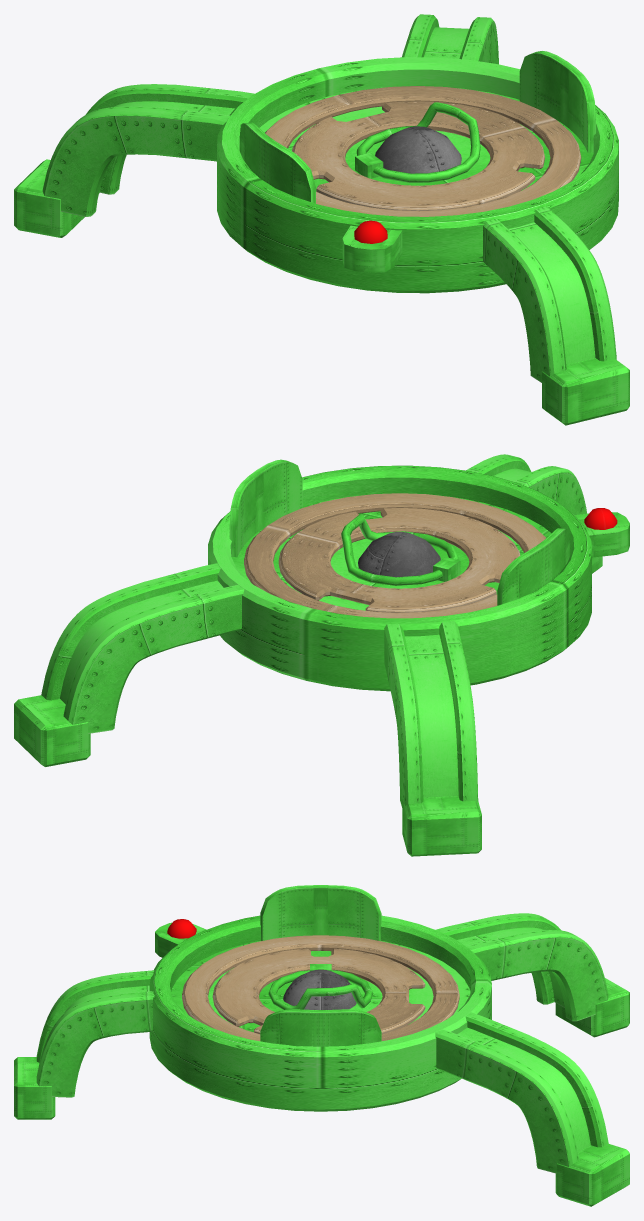
Rendered from static.glb.
3 renders of one model, top to bottom at view 1: azimuth 30°, elevation 25°; view 2: azimuth 150°, elevation 25°; view 3: azimuth 270°, elevation 25°, orthographic. The views are drawn at different scales.
Parts seen in each view (by area): view 1: Tube, Boole_2, Sweep_2, Sweep_3, Sweep_6, Cube_5, Cube_3, Sweep_1_3, Cylinder_2, Sphere, Cube_2, Sweep_5 (+5 smaller); view 2: Tube, Sweep, Boole_2, Sweep_6, Sweep_2, Cube_5, Sweep_1_2, Cube_2, Cube, Cylinder_2, Sphere, Sweep_3 (+4 smaller); view 3: Tube, Sweep, Cube_5, Sweep_2, Boole_2, Sweep_3, Sweep_6, Cube, Cylinder_2, Sweep_1, Cube_3, Cube_2 (+6 smaller).
Boxes of the visible parts, x1=… form: Tube: x1=217, y1=57, x2=618, y2=293; Boole_2: x1=292, y1=101, x2=544, y2=210; Sweep_2: x1=42, y1=84, x2=254, y2=216; Sweep_3: x1=483, y1=206, x2=616, y2=382; Sweep_6: x1=265, y1=86, x2=581, y2=216; Cube_5: x1=239, y1=51, x2=595, y2=203; Cube_3: x1=542, y1=358, x2=629, y2=425; Sweep_1_3: x1=508, y1=222, x2=595, y2=364; Cylinder_2: x1=259, y1=87, x2=593, y2=191; Sphere: x1=375, y1=126, x2=461, y2=173; Cube_2: x1=14, y1=159, x2=84, y2=237; Sweep_5: x1=356, y1=102, x2=480, y2=182; Tube: x1=208, y1=465, x2=591, y2=691; Sweep: x1=41, y1=563, x2=244, y2=733; Boole_2: x1=278, y1=508, x2=520, y2=612; Sweep_6: x1=244, y1=493, x2=545, y2=618; Sweep_2: x1=384, y1=621, x2=478, y2=807; Cube_5: x1=229, y1=459, x2=570, y2=605; Sweep_1_2: x1=405, y1=634, x2=458, y2=797; Cube_2: x1=402, y1=796, x2=481, y2=856; Cube: x1=14, y1=695, x2=90, y2=766; Cylinder_2: x1=231, y1=493, x2=551, y2=610; Sphere: x1=358, y1=532, x2=440, y2=577; Sweep_3: x1=466, y1=454, x2=586, y2=514; Tube: x1=149, y1=915, x2=491, y2=1111; Sweep: x1=435, y1=1012, x2=608, y2=1173; Cube_5: x1=260, y1=885, x2=381, y2=1046; Sweep_2: x1=435, y1=913, x2=608, y2=1021; Boole_2: x1=212, y1=948, x2=425, y2=1033; Sweep_3: x1=36, y1=970, x2=154, y2=1097; Sweep_6: x1=182, y1=935, x2=459, y2=1041; Cube: x1=555, y1=1143, x2=629, y2=1206; Cylinder_2: x1=171, y1=941, x2=470, y2=1032; Sweep_1: x1=457, y1=1027, x2=590, y2=1152; Cube_3: x1=14, y1=1057, x2=55, y2=1119; Cube_2: x1=555, y1=978, x2=629, y2=1037.
Bounding box in the file's own units: 1.67 × 0.6084 × 2.15.
4 materials, 4 textured.
